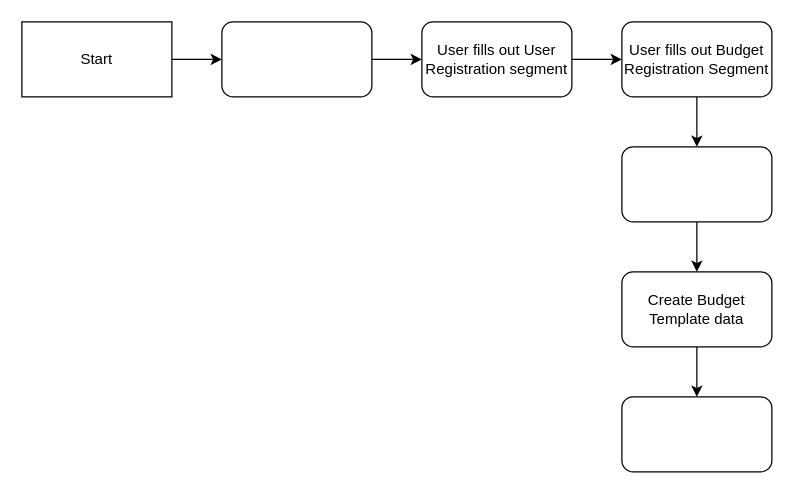
Image size: 794x494. Some labels were removed from this diagram. Each missing label, with the centre of its shape:
"Calculate Pre Budget data on the front end before creating main budget template" belongs at (696,184).
"User selects Registration" belongs at (296,59).
